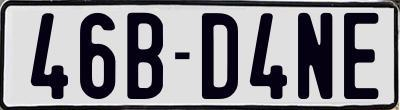4: (248, 12, 291, 103), (29, 10, 66, 98)
6: (80, 11, 116, 99)
B: (124, 13, 164, 105)
D: (202, 12, 243, 102)
E: (344, 13, 379, 100)
N: (298, 12, 335, 102)
